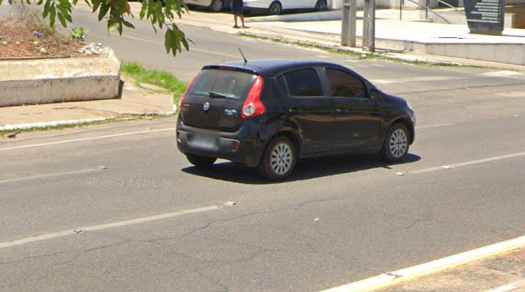car: (171, 46, 419, 185)
